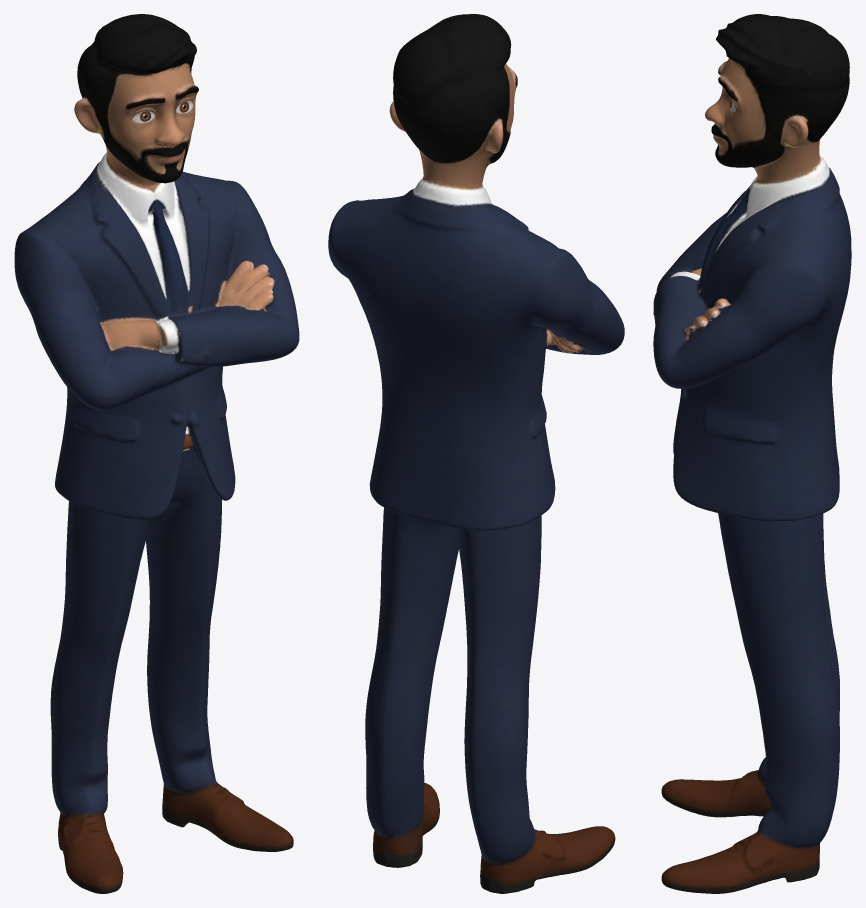
Rendered from suit.glb.
3 renders of one model, left to right at view 1: azimuth 30°, elevation 25°; view 2: azimuth 150°, elevation 25°; view 3: azimuth 270°, elevation 25°, orthographic. The views are drawn at different scales.
Bounding box in the file's own units: 0.5902 × 1.9 × 0.4128.
1 material, 1 textured.
